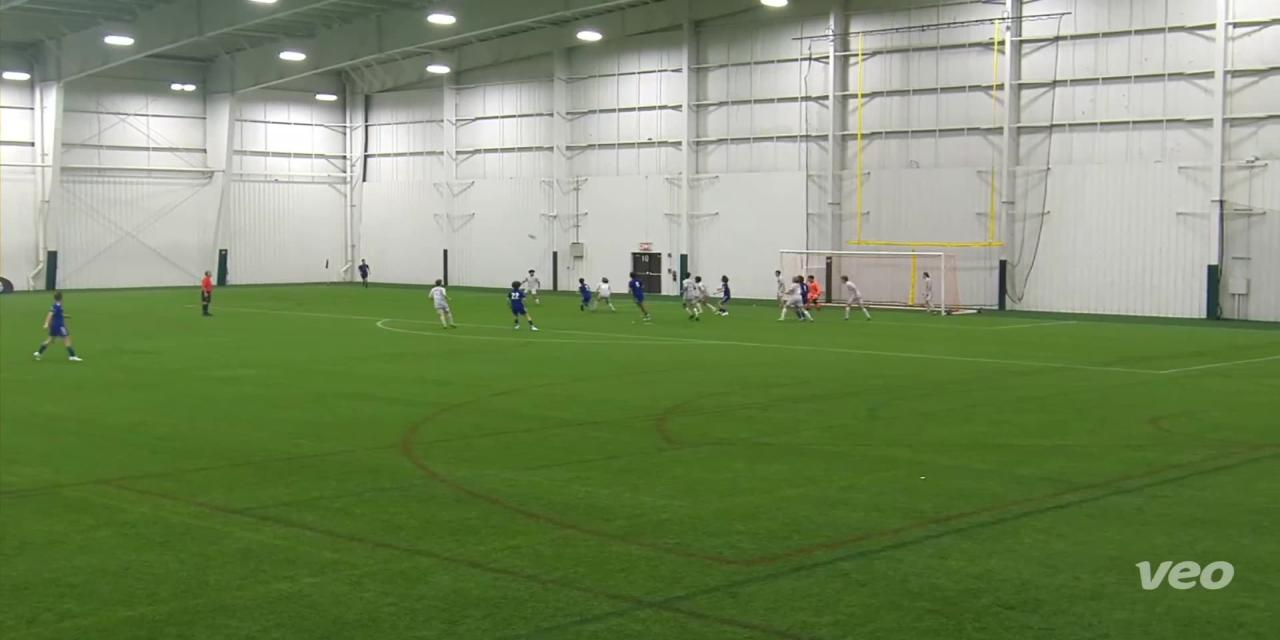goal: (772, 246, 985, 316)
sports ball: (526, 228, 542, 244)
